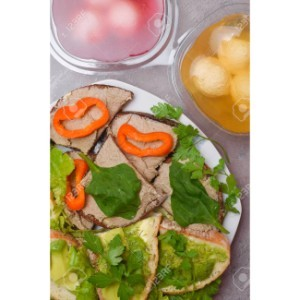tuna_brain food: (55, 88, 173, 233)
